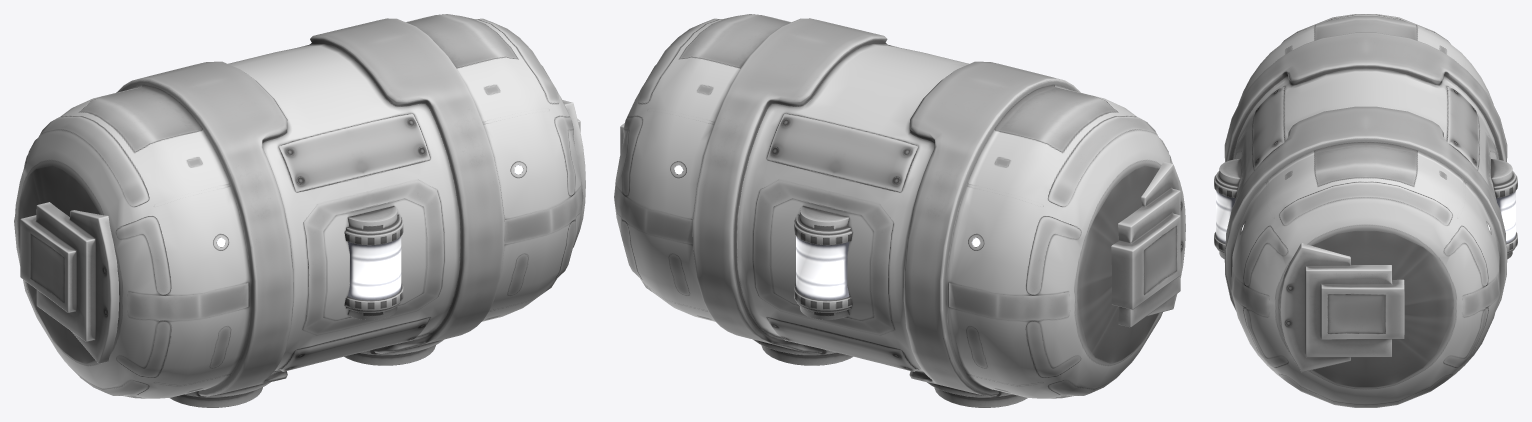
File: Barrel02.FBX
3 views of the same model, side by side, from view 1: azimuth 30°, elevation 25°; view 2: azimuth 150°, elevation 25°; view 3: azimuth 270°, elevation 25° (orthographic). The views are drawn at different scales.
Parts seen in each view (by area): view 1: Barrel02; view 2: Barrel02; view 3: Barrel02.
Part boxes in pixels (x1,y1,x2,y2): Barrel02: (14,14,585,407); Barrel02: (614,14,1185,407); Barrel02: (1214,14,1517,407).
Size of what is drawn, in the model's own units: 1.87 by 1.06 by 1.11.
